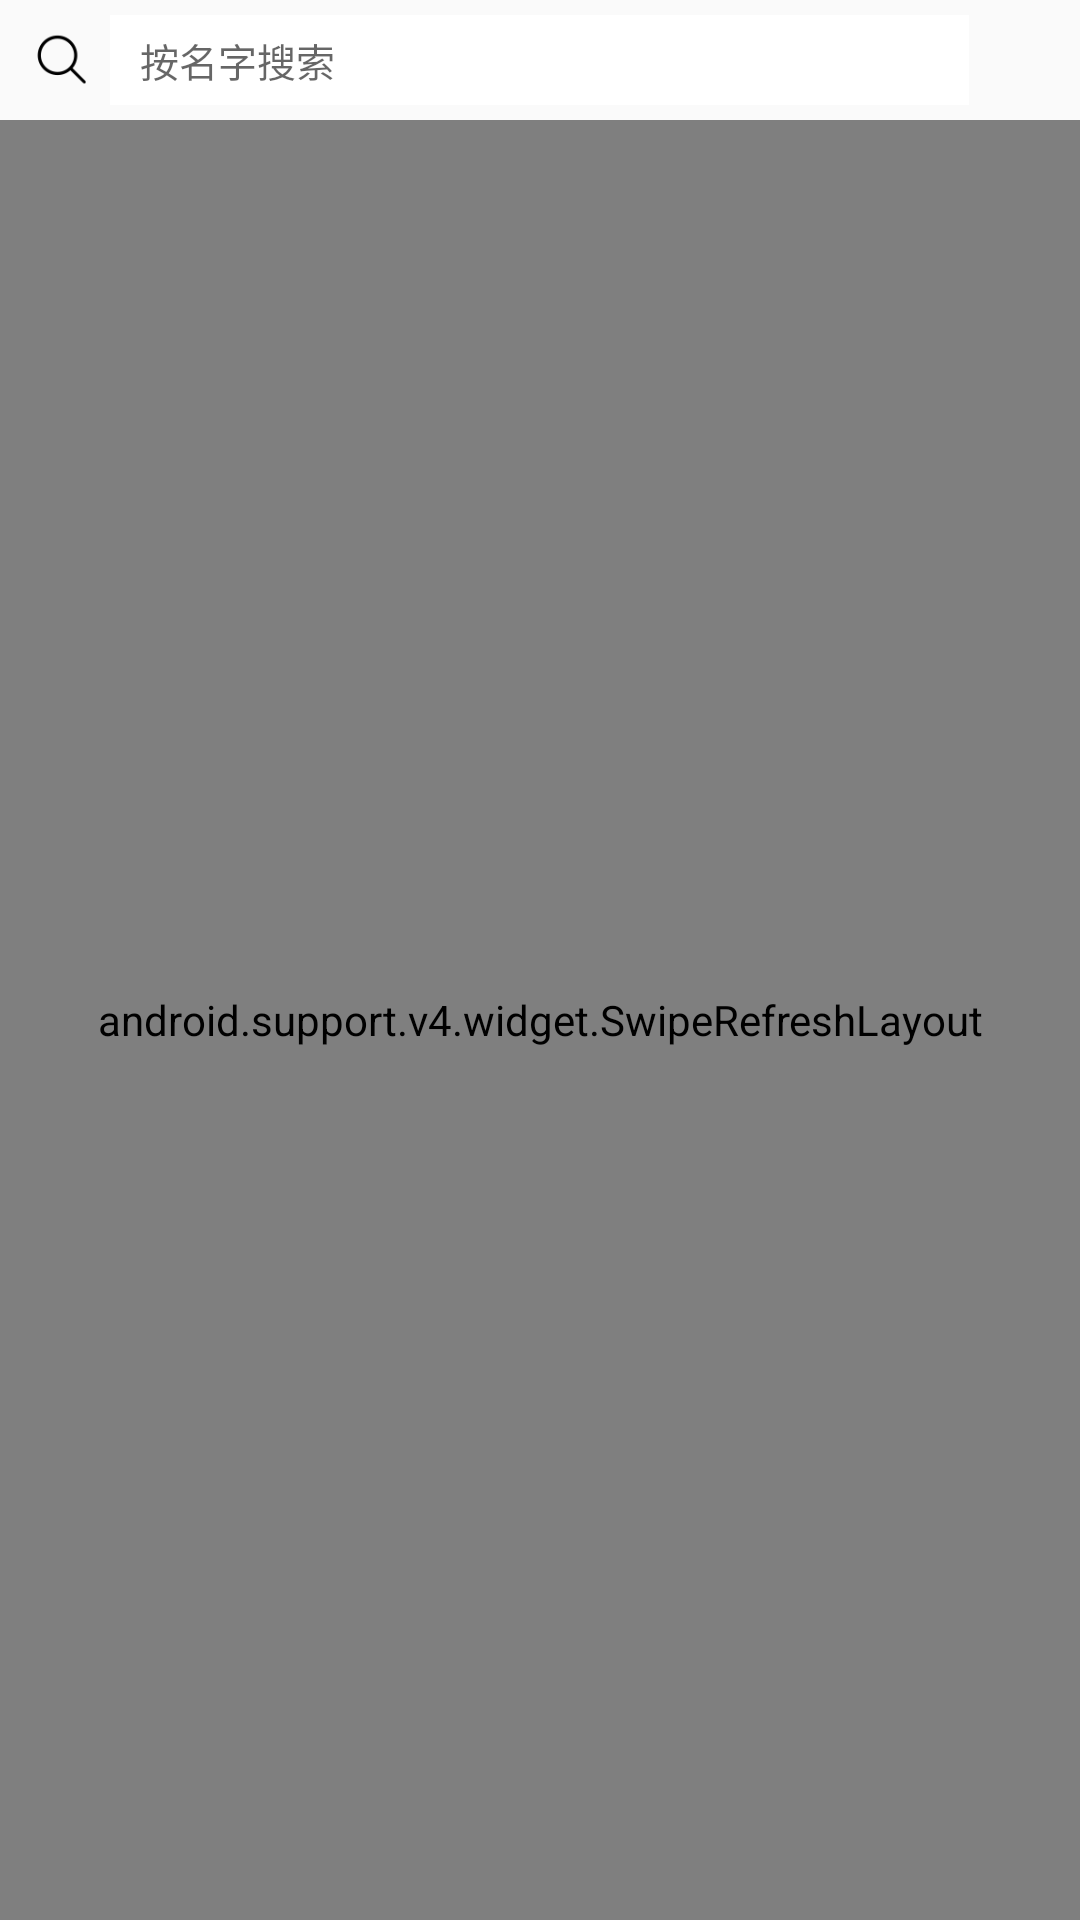

Where to tap for icons on this 1080px×1920px app screen, as (x=x, y=y):
sousuo: (x=61, y=59)
